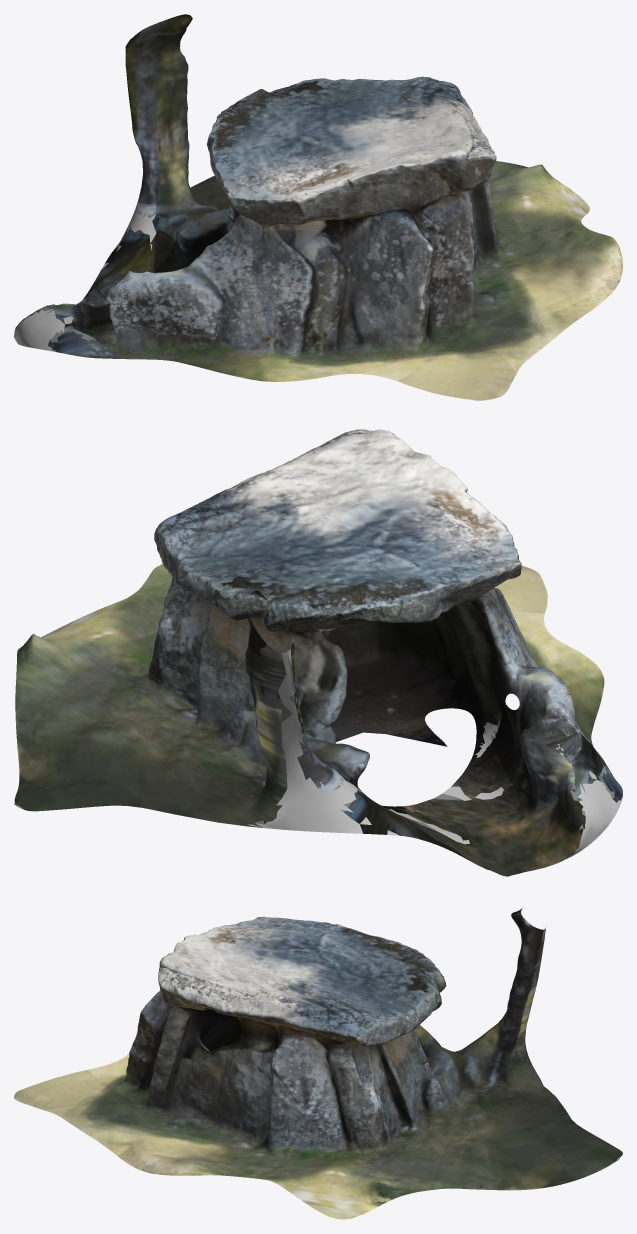
The picture shows the model from 3 angles, top to bottom: view 1: azimuth 30°, elevation 25°; view 2: azimuth 150°, elevation 25°; view 3: azimuth 270°, elevation 25°; orthographic projection. The views are drawn at different scales.
Visible parts, largest first — view 1: mesh_obj_1; view 2: mesh_obj_1; view 3: mesh_obj_1.
Part boxes in pixels (left/top/right/bottom): mesh_obj_1: left=14, top=14, right=622, bottom=400; mesh_obj_1: left=14, top=429, right=622, bottom=876; mesh_obj_1: left=14, top=908, right=622, bottom=1219.
Size of the model in its own units: 44.05 by 18.99 by 47.16.
Materials: 2 (1 with a texture image).
